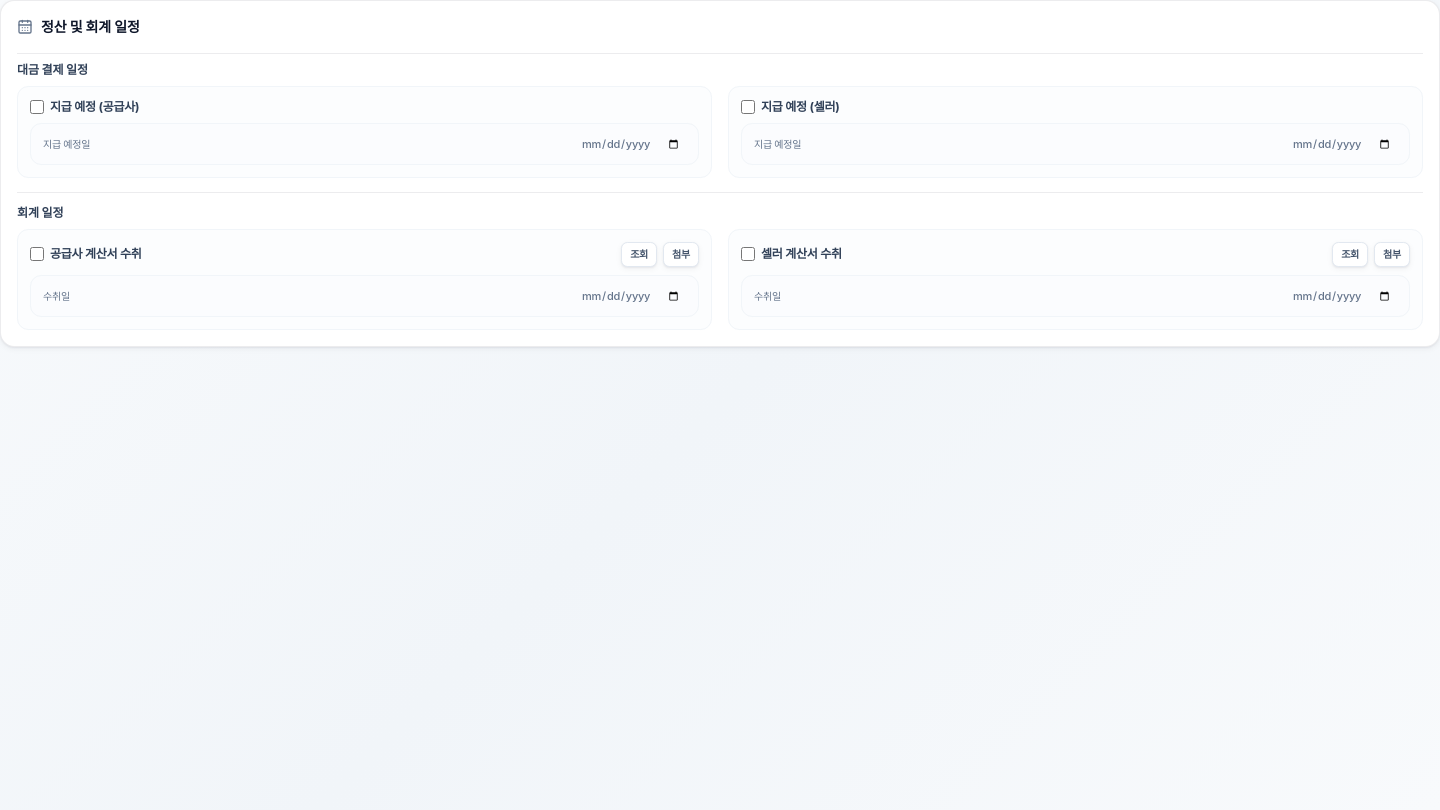
Scenario: SettlementSection — 수취 판정 배지 › 매칭돼도 칸에는 「확인됨」을 그리지 않는다 — 근거는 조회 모달이 소유한다
// 공급사 계산서 칸의 수취 확인 — 카드 전체가 같은 스캔 결과를 공유한다.
Step 1. Click the button "조회" → click(639, 254), box [621,242,657,267]
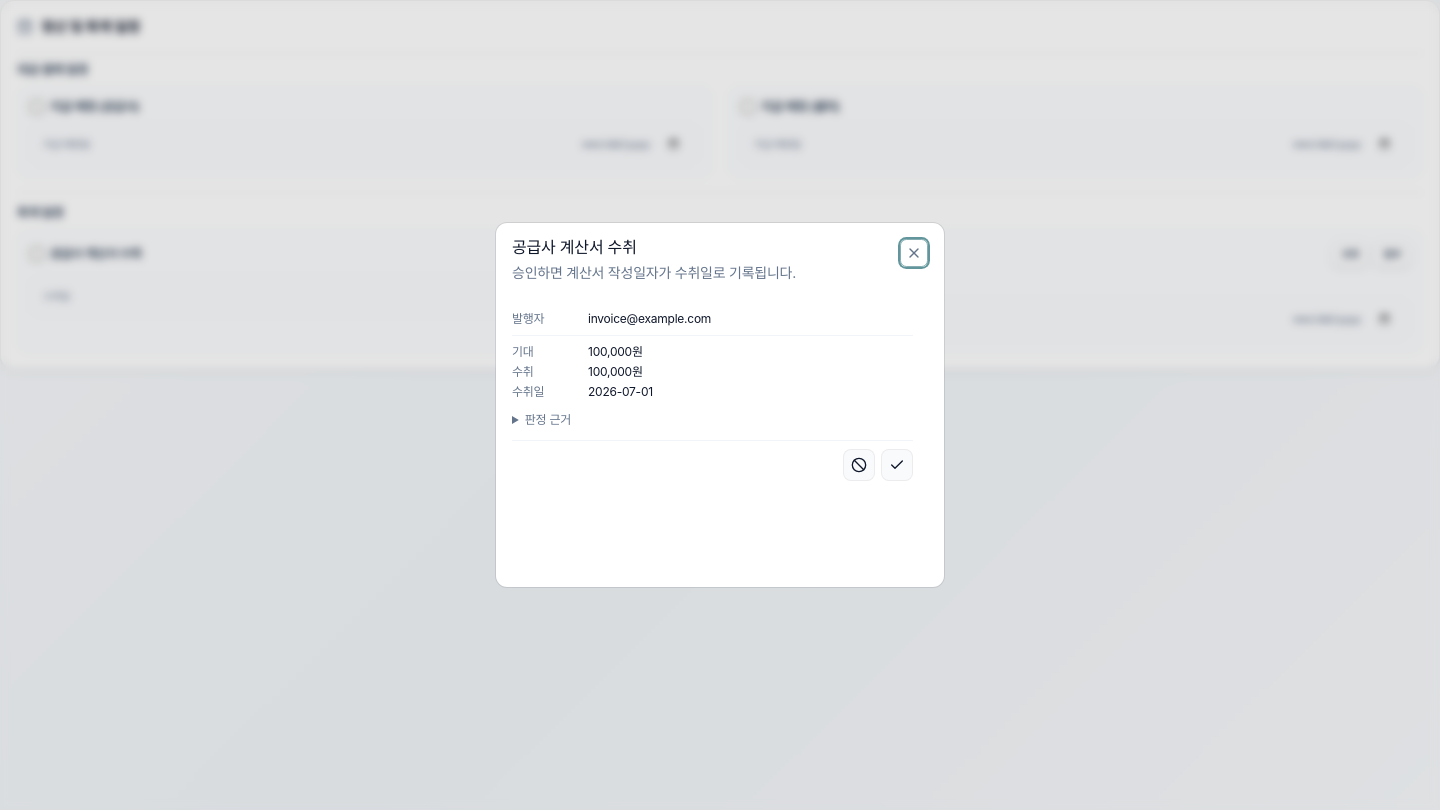
Expected: the text "2026-07-01" is shown, [588,384,653,399]
Expected: the button named "승인" is shown, [881,449,913,481]
